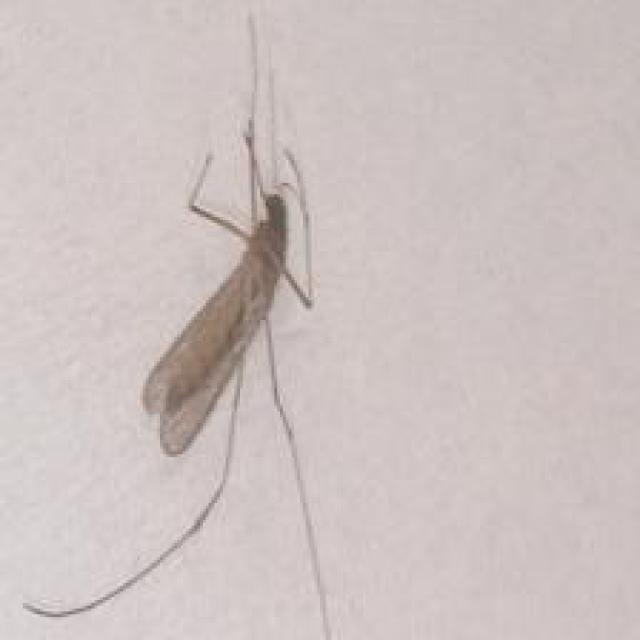Culex: (21, 8, 349, 640)
